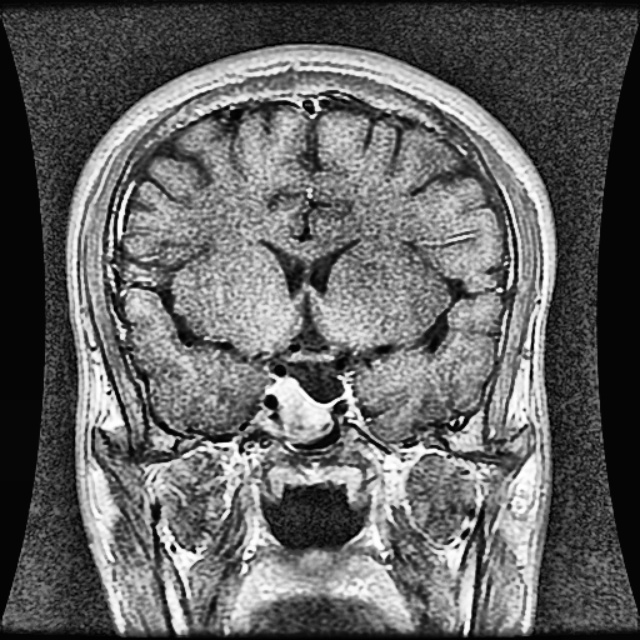Pituitary: (263, 378, 328, 437)
